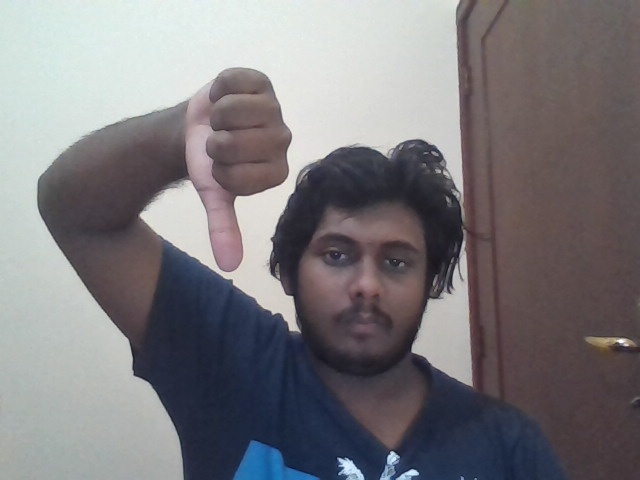thumbsdown: (184, 67, 292, 272)
